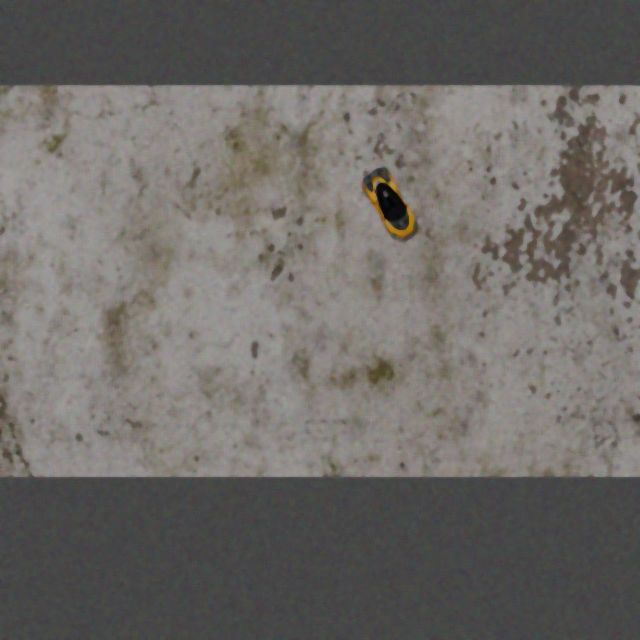car: (357, 163, 424, 244)
